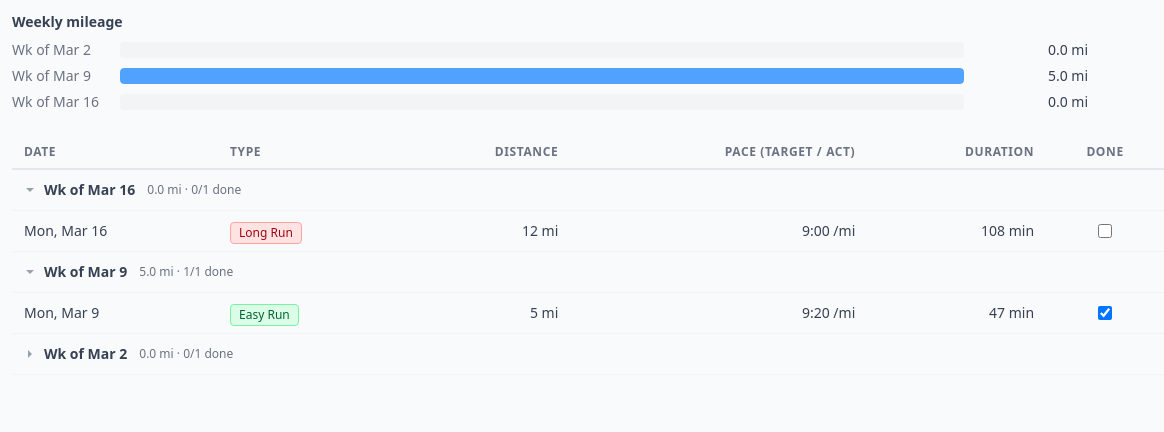
WorkoutSummary › expands a collapsed week when its header is clicked
Expected: the table is shown, [12,136,1163,375]
Step 1. Click the text "Wk of Mar 2" → {"x": 76, "y": 354}, box [24,344,127,364]
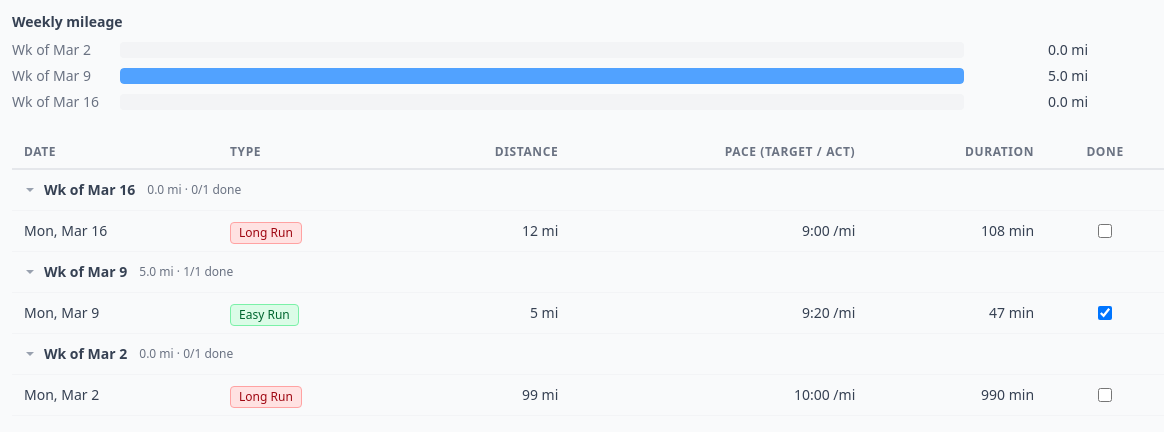
Result: the text "99 mi" is shown at [402,374,570,416]
